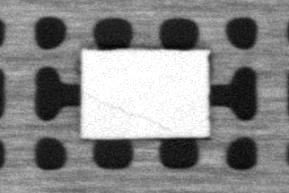DIE_CRACK: (90, 97, 172, 133)
